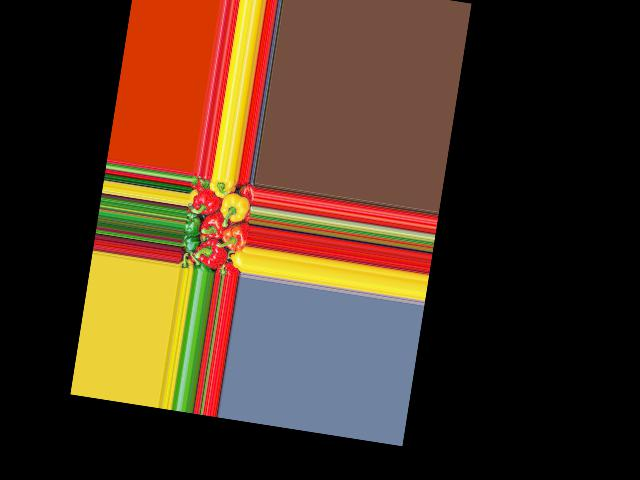bell_pepper: (230, 250, 245, 268)
